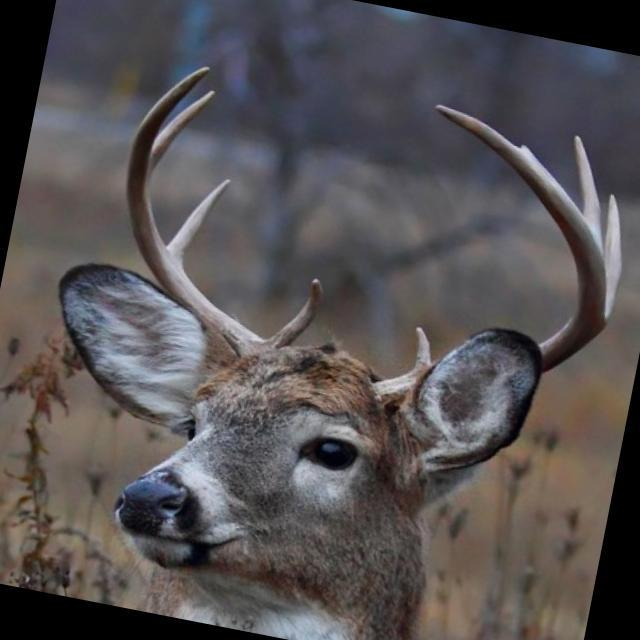L-G1: (413, 326, 431, 369)
R-F: (126, 66, 263, 355)
R-G1: (264, 278, 324, 348)
R-G2: (167, 178, 232, 266)
